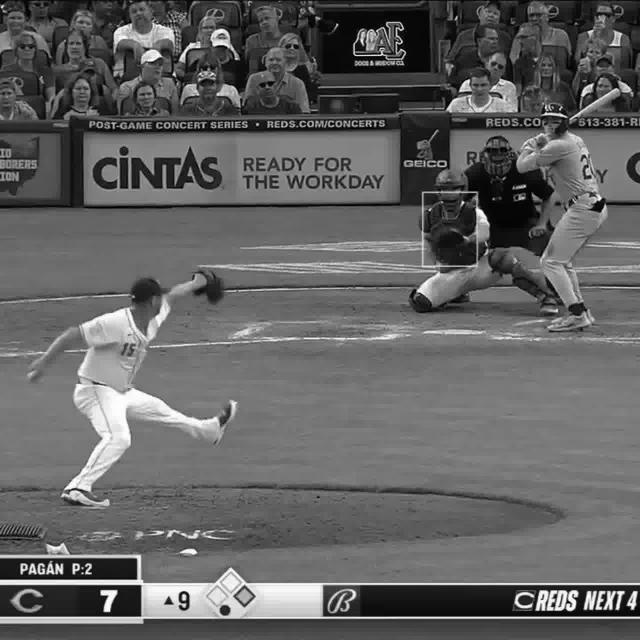base: (423, 328, 487, 336)
baseball: (26, 367, 36, 383)
baseball_glove: (194, 266, 226, 306), (433, 229, 467, 261)
bat: (568, 87, 622, 123)
shoe: (206, 398, 243, 446), (544, 310, 597, 336), (62, 480, 113, 505)
